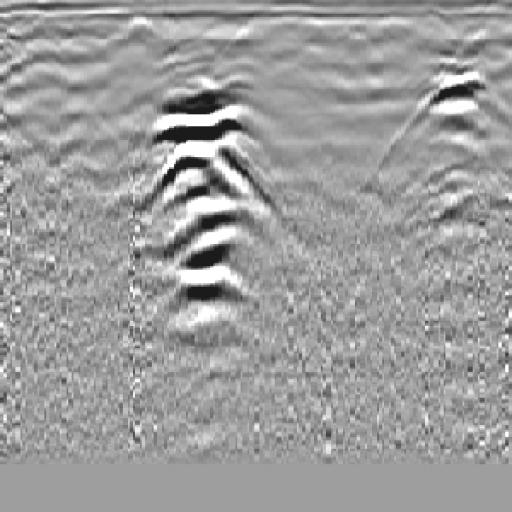metalic: (123, 74, 289, 330)
